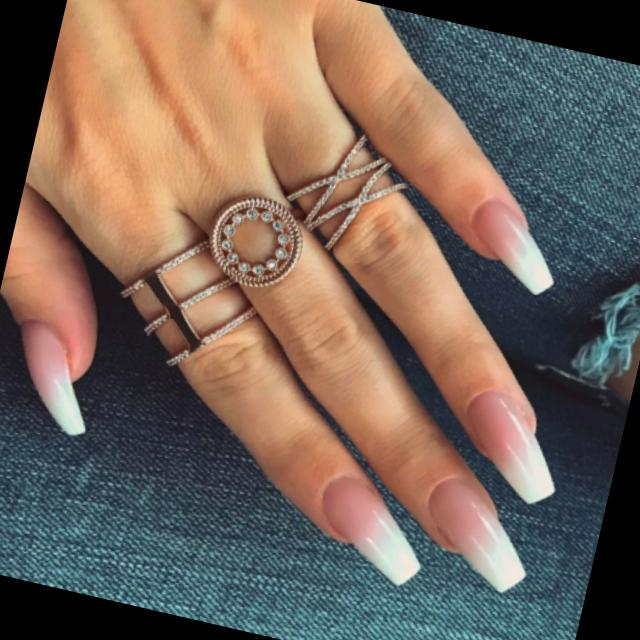Nail: (427, 479, 524, 593), (321, 478, 418, 585), (465, 390, 553, 505), (469, 200, 552, 296), (20, 320, 83, 435)
